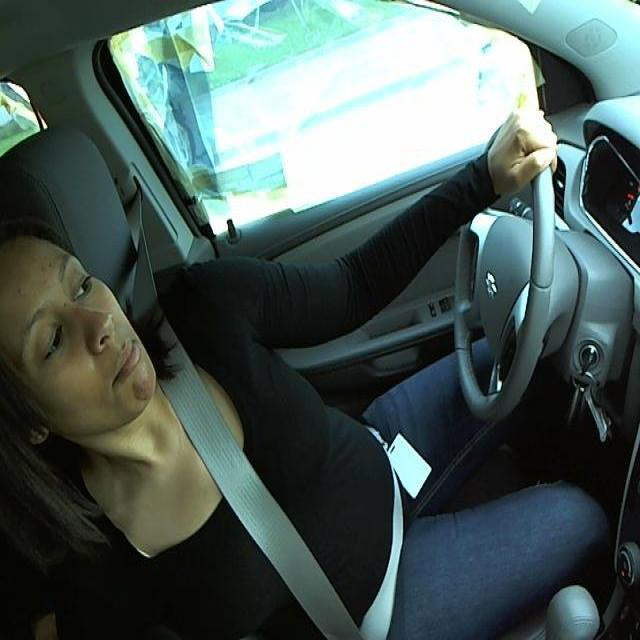seatbelt: (152, 357, 397, 639)
